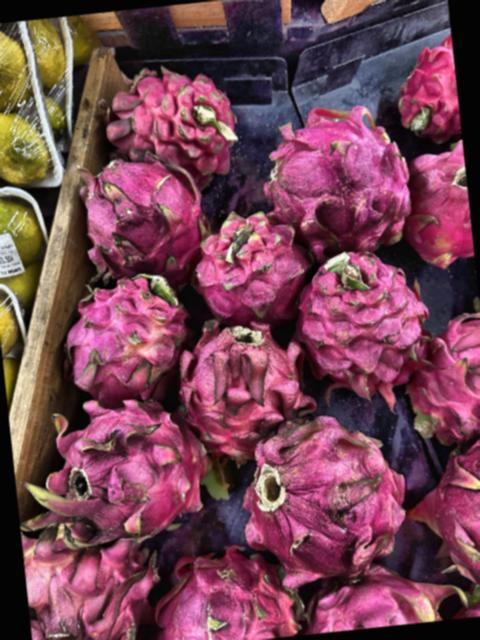buah-naga-belum-matang: (19, 503, 162, 640)
buah-naga-matang: (228, 412, 422, 592), (246, 95, 413, 258), (288, 226, 435, 410), (27, 388, 205, 537), (172, 308, 319, 464), (59, 262, 189, 408), (74, 146, 206, 284), (185, 196, 314, 332), (145, 532, 304, 640), (105, 60, 237, 186), (407, 428, 480, 596), (300, 555, 448, 634), (403, 299, 480, 441), (408, 132, 475, 264), (392, 31, 462, 143)
